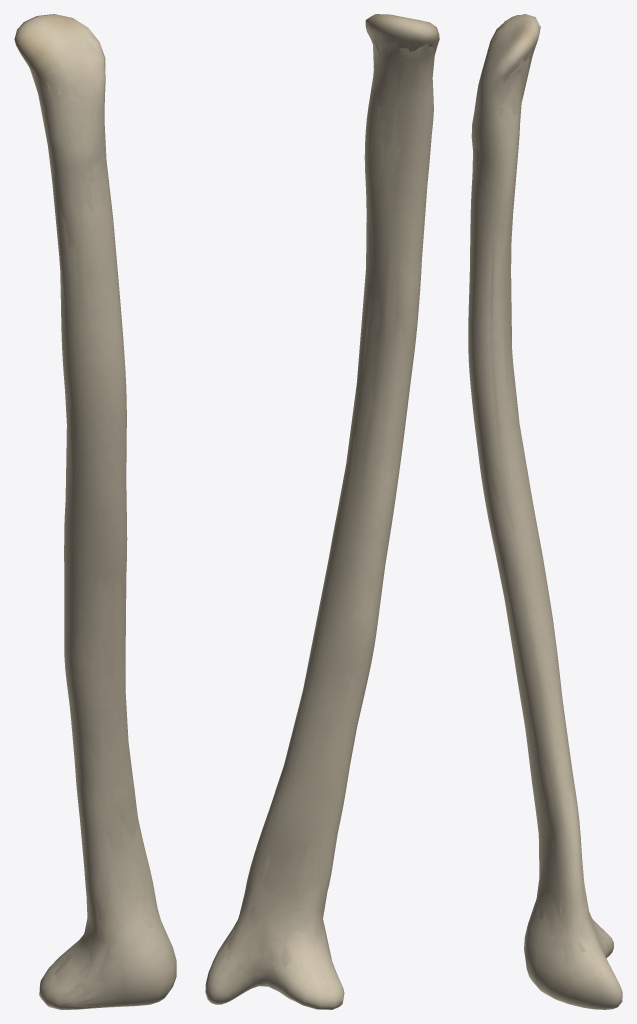
Rendered from R Radius.fbx.
The picture shows the model from 3 angles, left to right: view 1: azimuth 30°, elevation 25°; view 2: azimuth 150°, elevation 25°; view 3: azimuth 270°, elevation 25°; orthographic projection. The views are drawn at different scales.
Visible parts, largest first — view 1: R Radius high, R Radius, R Radius low; view 2: R Radius low, R Radius, R Radius high; view 3: R Radius, R Radius low, R Radius high.
Boxes of the visible parts, x1=… form: R Radius high: x1=16, y1=14, x2=176, y2=1008; R Radius: x1=14, y1=14, x2=176, y2=1009; R Radius low: x1=29, y1=58, x2=161, y2=996; R Radius low: x1=226, y1=33, x2=434, y2=993; R Radius: x1=205, y1=14, x2=439, y2=1009; R Radius high: x1=206, y1=14, x2=438, y2=1008; R Radius: x1=469, y1=14, x2=622, y2=1009; R Radius low: x1=472, y1=56, x2=609, y2=961; R Radius high: x1=468, y1=14, x2=619, y2=1008.
Size of the model in its own units: 7.52 by 39.26 by 5.93.
1 material, 1 textured.
